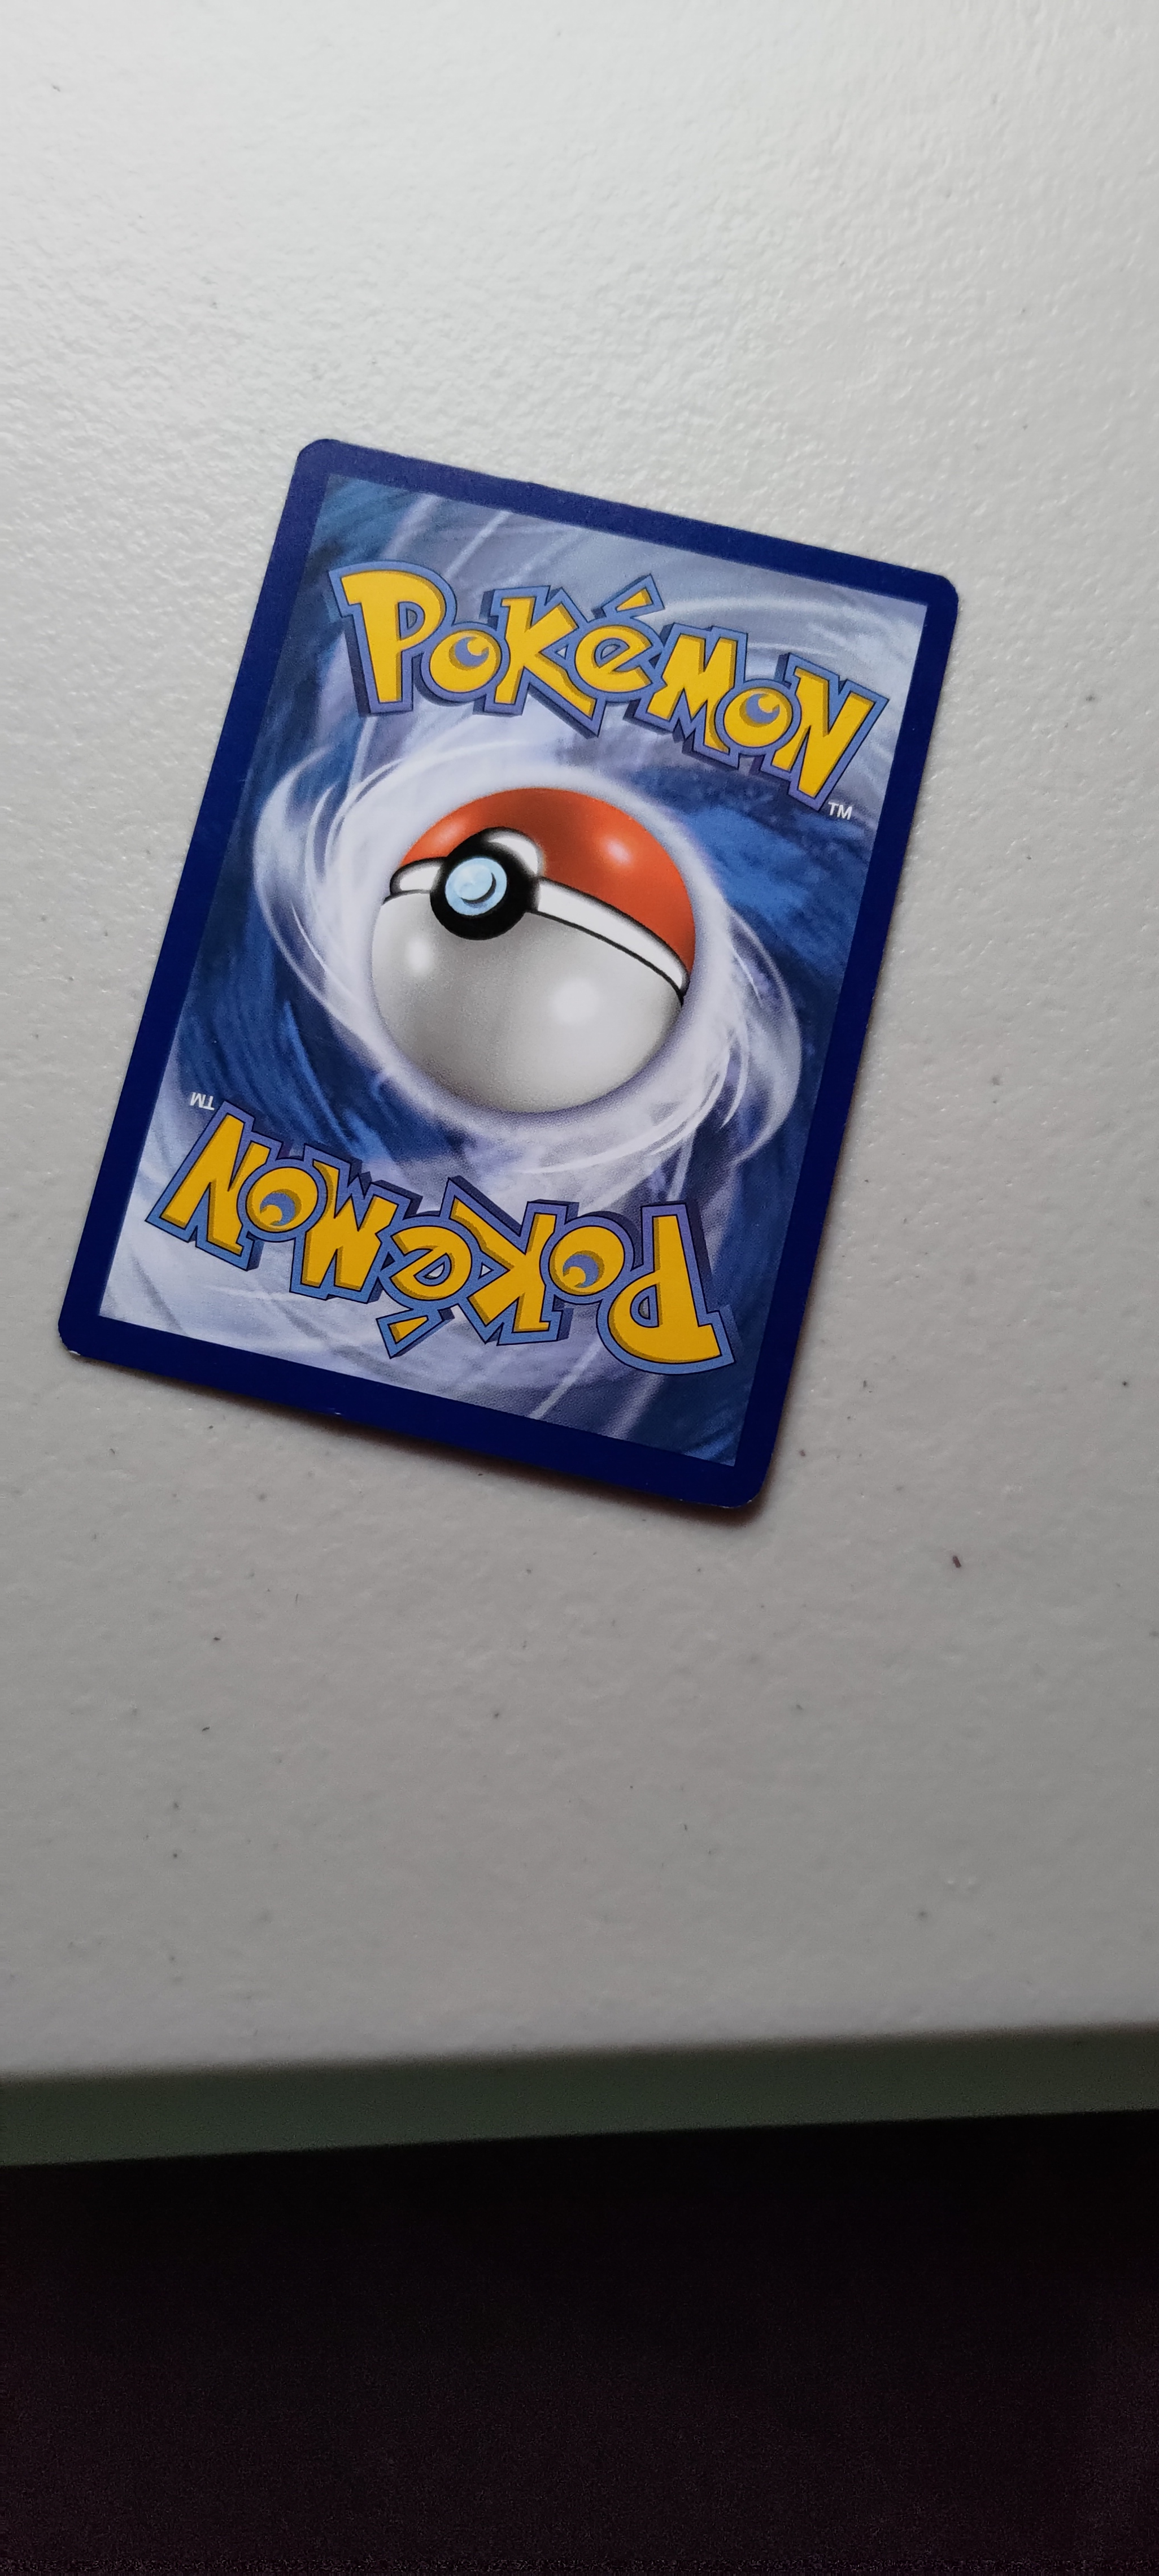pokemon_card: (248, 416, 996, 1413)
